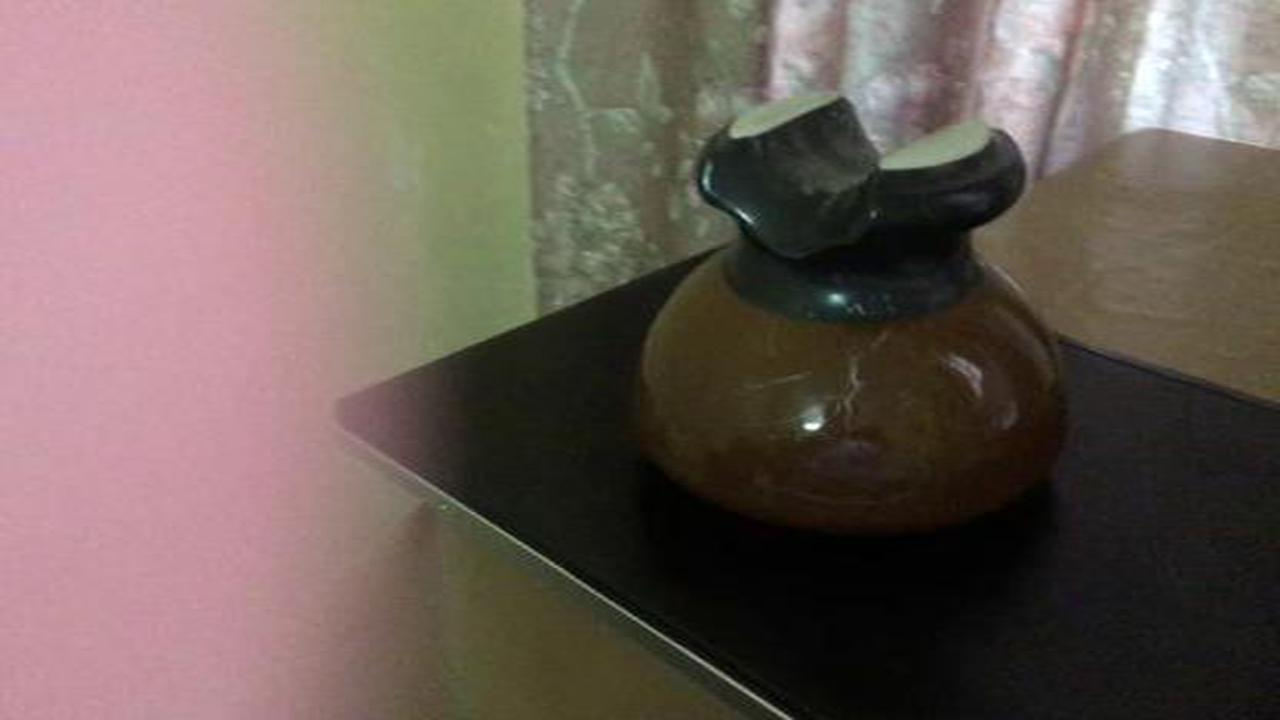insulator_pin: (604, 66, 1096, 553)
